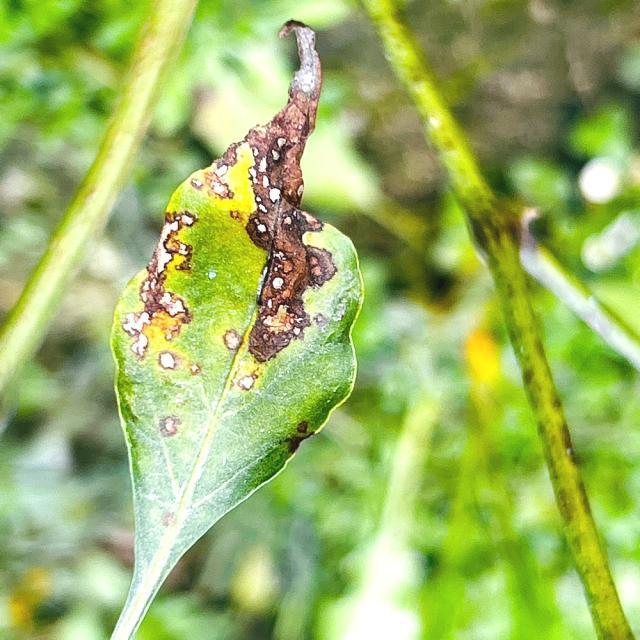Bercak Daun Serkospora: (106, 21, 365, 640)
